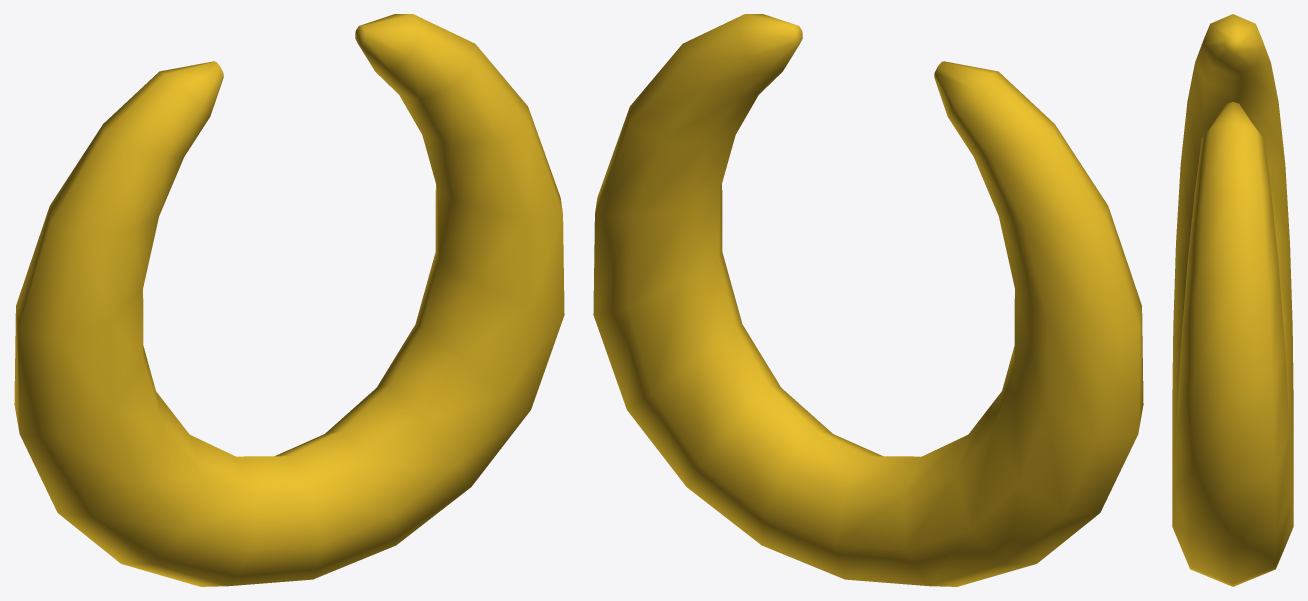
Rendered from septum.fbx.
3 views of the same model, side by side, from view 1: azimuth 30°, elevation 25°; view 2: azimuth 150°, elevation 25°; view 3: azimuth 270°, elevation 25° (orthographic). The views are drawn at different scales.
Visible parts, largest first — view 1: septum; view 2: septum; view 3: septum.
Part boxes in pixels (x1,y1,x2,y2): septum: (14,14,564,586); septum: (593,14,1143,586); septum: (1172,14,1293,586).
Size of the model in its own units: 237 by 224 by 50.
